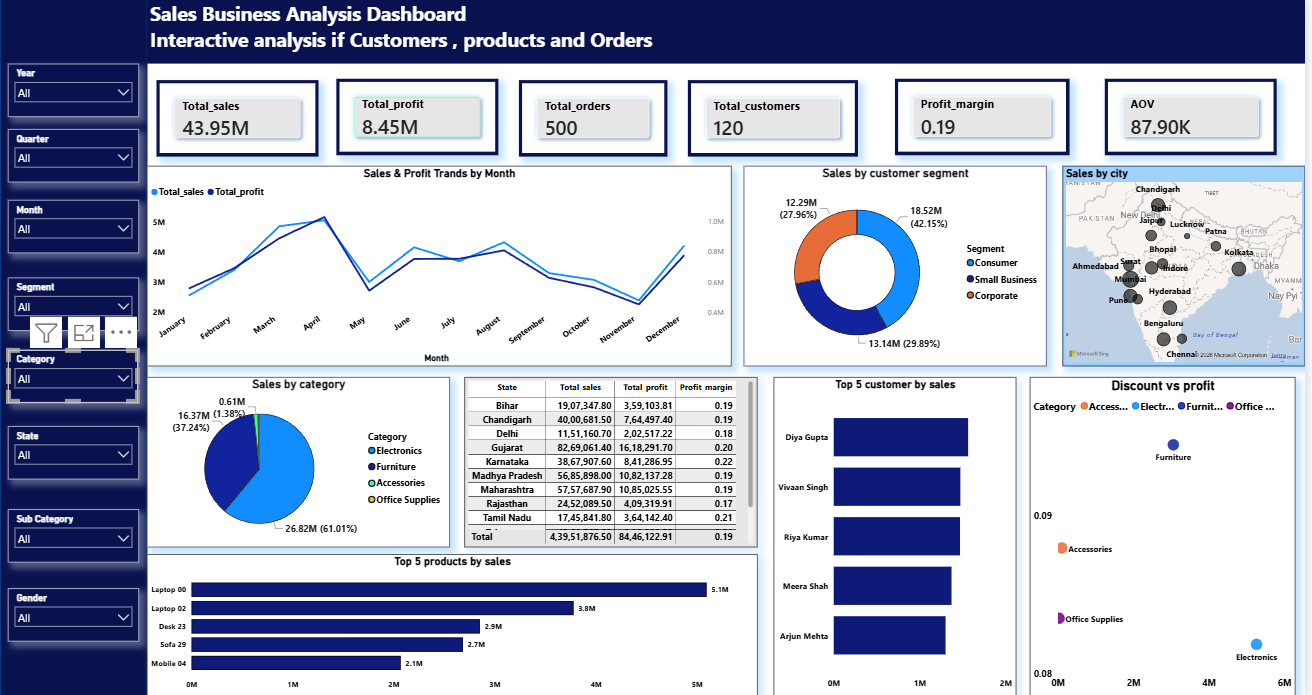

The page's visual inventory and layout, read from the dashboard file:
{"tool":"powerbi","page":{"name":"Page 1","canvas":[2140,1141],"ordinal":0},"visuals":[{"type":"shape","box":[10.2,0,240.8,1140.8],"z":0},{"type":"cardVisual","fields":{"Data":["All measures.Total_sales"]},"box":[266.7,135.6,264.4,124.4],"z":1000},{"type":"cardVisual","fields":{"Data":["All measures.Total_profit"]},"box":[560,133.3,264.4,124.4],"z":2000},{"type":"cardVisual","fields":{"Data":["All measures.Total_orders"]},"box":[857.8,135.6,242.2,124.4],"z":3000},{"type":"cardVisual","fields":{"Data":["All measures.Total_customers"]},"box":[1133.3,135.6,277.8,124.4],"z":4000},{"type":"cardVisual","fields":{"Data":["All measures.Profit_margin"]},"box":[1471.1,133.3,284.4,124.4],"z":5000},{"type":"cardVisual","fields":{"Data":["All measures.AOV"]},"box":[1813.3,133.3,280,124.4],"z":6000},{"type":"lineChart","title":"Sales & Profit Trands by Month","fields":{"Category":["calendar.Date.Variation.Date Hierarchy.Month"],"Y":["All measures.Total_sales"],"Y2":["All measures.Total_profit"]},"box":[251,275.5,953.1,326.5],"z":7000},{"type":"pieChart","title":"Sales by category","fields":{"Y":["All measures.Total_sales"],"Category":["Product_ID.Category"]},"box":[251,620.4,493.9,277.6],"z":8000},{"type":"donutChart","title":"Sales by customer segment","fields":{"Y":["All measures.Total_sales"],"Category":["Customer_ID.Segment"]},"box":[1224.5,275.5,493.9,326.5],"z":9000},{"type":"map","title":"Sales by city","fields":{"Category":["Customer_ID.City"],"Size":["All measures.Total_sales"]},"box":[1744.9,275.5,395.9,326.5],"z":10000},{"type":"tableEx","fields":{"Values":["Customer_ID.State","All measures.Total_sales","All measures.Total_profit","All measures.Profit_margin"]},"box":[769.4,620.4,477.6,277.6],"z":11000},{"type":"clusteredBarChart","title":"Top 5 products by sales","fields":{"Category":["Product_ID.Product Name"],"Y":["All measures.Total_sales"]},"box":[251,908.2,995.9,232.7],"z":12000},{"type":"clusteredBarChart","title":"Top 5 customer by sales","fields":{"Category":["Customer_ID.Customer Name"],"Y":["All measures.Total_sales"]},"box":[1273.3,620,395.6,520],"z":13000},{"type":"scatterChart","title":"Discount vs profit","fields":{"X":["All measures.Total_profit"],"Y":["All measures.Average_discount"],"Series":["Product_ID.Category"]},"box":[1691.1,620,433.3,520],"z":14000},{"type":"slicer","fields":{"Values":["calendar.Date.Variation.Date Hierarchy.Year"]},"box":[24.4,108.9,213.3,86.7],"z":15000},{"type":"slicer","fields":{"Values":["calendar.Date.Variation.Date Hierarchy.Quarter"]},"box":[24.4,215.6,213.3,86.7],"z":16000},{"type":"slicer","fields":{"Values":["calendar.Date.Variation.Date Hierarchy.Month"]},"box":[24.4,331.1,213.3,86.7],"z":17000},{"type":"slicer","fields":{"Values":["Customer_ID.Segment"]},"box":[24.4,457.8,213.3,86.7],"z":18000},{"type":"slicer","fields":{"Values":["Product_ID.Category"]},"box":[24.4,575.6,213.3,86.7],"z":19000},{"type":"slicer","fields":{"Values":["Customer_ID.State"]},"box":[24.4,700,213.3,86.7],"z":20000},{"type":"slicer","fields":{"Values":["Customer_ID.Gender"]},"box":[24.4,964.4,213.3,86.7],"z":21000},{"type":"slicer","fields":{"Values":["Product_ID.Sub Category"]},"box":[24.4,835.6,213.3,86.7],"z":22000},{"type":"textbox","box":[251.1,0,1888.9,108.9],"z":22001}]}

Visuals, with their boxes in screenshot pixels (x1, y1, x2, y2), scaled from the page's 2140x1141 canvas onto the 1312x695 screenshot:
shape: bbox=(6, 0, 154, 694)
cardVisual - All measures.Total_sales: bbox=(164, 83, 326, 158)
cardVisual - All measures.Total_profit: bbox=(343, 81, 505, 157)
cardVisual - All measures.Total_orders: bbox=(526, 83, 674, 158)
cardVisual - All measures.Total_customers: bbox=(695, 83, 865, 158)
cardVisual - All measures.Profit_margin: bbox=(902, 81, 1076, 157)
cardVisual - All measures.AOV: bbox=(1112, 81, 1283, 157)
"Sales & Profit Trands by Month" lineChart: bbox=(154, 168, 738, 367)
"Sales by category" pieChart: bbox=(154, 378, 457, 547)
"Sales by customer segment" donutChart: bbox=(751, 168, 1054, 367)
"Sales by city" map: bbox=(1070, 168, 1311, 367)
tableEx - Customer_ID.State x All measures.Total_sales: bbox=(472, 378, 765, 547)
"Top 5 products by sales" clusteredBarChart: bbox=(154, 553, 764, 694)
"Top 5 customer by sales" clusteredBarChart: bbox=(781, 378, 1023, 694)
"Discount vs profit" scatterChart: bbox=(1037, 378, 1302, 694)
slicer - calendar.Date.Variation.Date Hierarchy.Year: bbox=(15, 66, 146, 119)
slicer - calendar.Date.Variation.Date Hierarchy.Quarter: bbox=(15, 131, 146, 184)
slicer - calendar.Date.Variation.Date Hierarchy.Month: bbox=(15, 202, 146, 254)
slicer - Customer_ID.Segment: bbox=(15, 279, 146, 332)
slicer - Product_ID.Category: bbox=(15, 351, 146, 403)
slicer - Customer_ID.State: bbox=(15, 426, 146, 479)
slicer - Customer_ID.Gender: bbox=(15, 587, 146, 640)
slicer - Product_ID.Sub Category: bbox=(15, 509, 146, 562)
textbox: bbox=(154, 0, 1311, 66)
